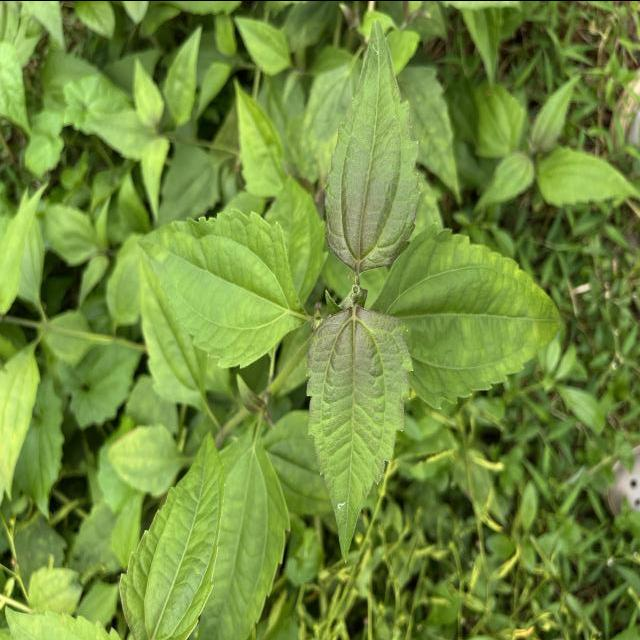Chromolaena odorata: (302, 301, 418, 567), (132, 204, 309, 374), (320, 12, 424, 274)
